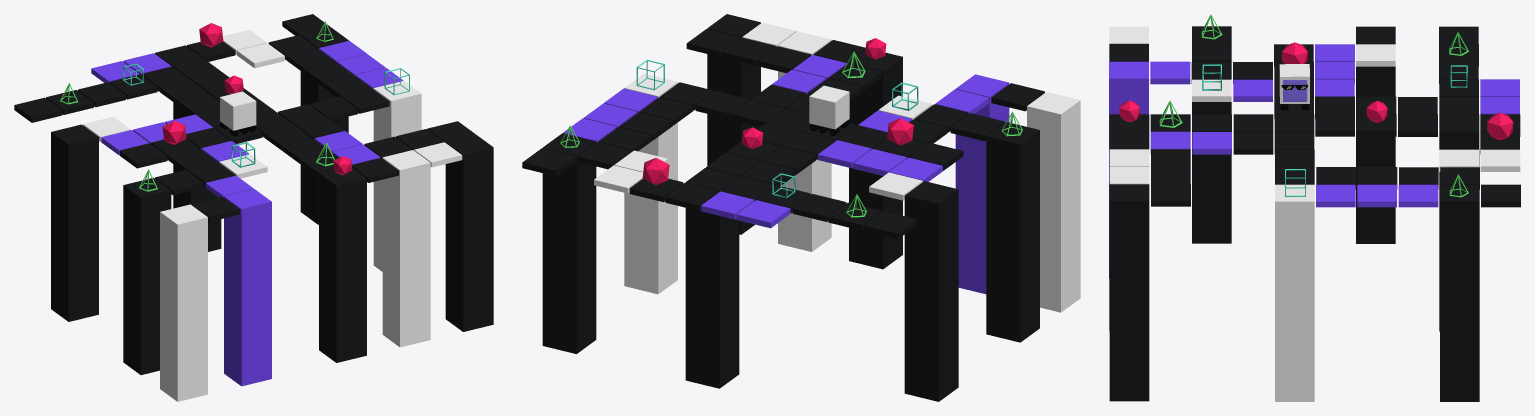
The model's file is trinity-scene.glb.
3 renders of one model, left to right at view 1: azimuth 30°, elevation 25°; view 2: azimuth 150°, elevation 25°; view 3: azimuth 270°, elevation 25°, orthographic. The views are drawn at different scales.
Parts seen in each view (by area): view 1: Cube.060, Cube.066, Cube.008, Cube.004, Cube.010, Cube.054, Cube.062, Cube.027, Cube.031, Cube.016, Object_7, Cube.065 (+52 smaller); view 2: Cube.066, Cube.062, Cube.031, Cube.016, Cube.060, Cube.027, Cube.054, Cube.010, Cube.004, Cube.008, Object_7, Cube.071 (+53 smaller); view 3: Cube.004, Cube.031, Cube.027, Cube.066, Cube.062, Cube.054, Cube.016, Cube.053, Cube.032, Cube.029, Cube.030, Cube.033 (+54 smaller).
Part boxes in pixels (box(x1,y1,x2,y2)): Cube.060: box(160, 204, 207, 401); Cube.066: box(51, 124, 98, 321); Cube.008: box(382, 150, 430, 347); Cube.004: box(445, 134, 493, 331); Cube.010: box(319, 167, 366, 362); Cube.054: box(224, 189, 271, 386); Cube.062: box(123, 177, 171, 374); Cube.027: box(373, 81, 421, 271); Cube.031: box(300, 27, 348, 224); Cube.016: box(173, 58, 221, 251); Object_7: box(220, 91, 256, 130); Cube.065: box(119, 143, 167, 168); Cube.066: box(904, 181, 958, 401); Cube.062: box(986, 122, 1039, 342); Cube.031: box(542, 133, 596, 353); Cube.016: box(685, 168, 739, 388); Cube.060: box(1027, 92, 1080, 312); Cube.027: box(624, 73, 677, 294); Cube.054: box(955, 74, 1009, 294); Cube.010: box(849, 51, 902, 269); Cube.004: box(707, 14, 760, 234); Cube.008: box(778, 31, 831, 251); Object_7: box(809, 85, 849, 129); Cube.071: box(736, 200, 790, 228); Cube.004: box(1109, 184, 1149, 401); Cube.031: box(1440, 184, 1479, 401); Cube.027: box(1275, 184, 1314, 401); Cube.066: box(1356, 26, 1395, 243); Cube.062: box(1192, 26, 1231, 243); Cube.054: box(1109, 61, 1148, 278); Cube.016: box(1439, 114, 1479, 331); Cube.053: box(1150, 61, 1190, 84); Cube.032: box(1398, 184, 1438, 207); Cube.029: box(1357, 184, 1396, 207); Cube.030: box(1316, 184, 1355, 207); Cube.033: box(1481, 184, 1520, 207).
Size of the model in its own units: 19.29 by 12.08 by 19.16.
Materials: 9 (1 with a texture image).
